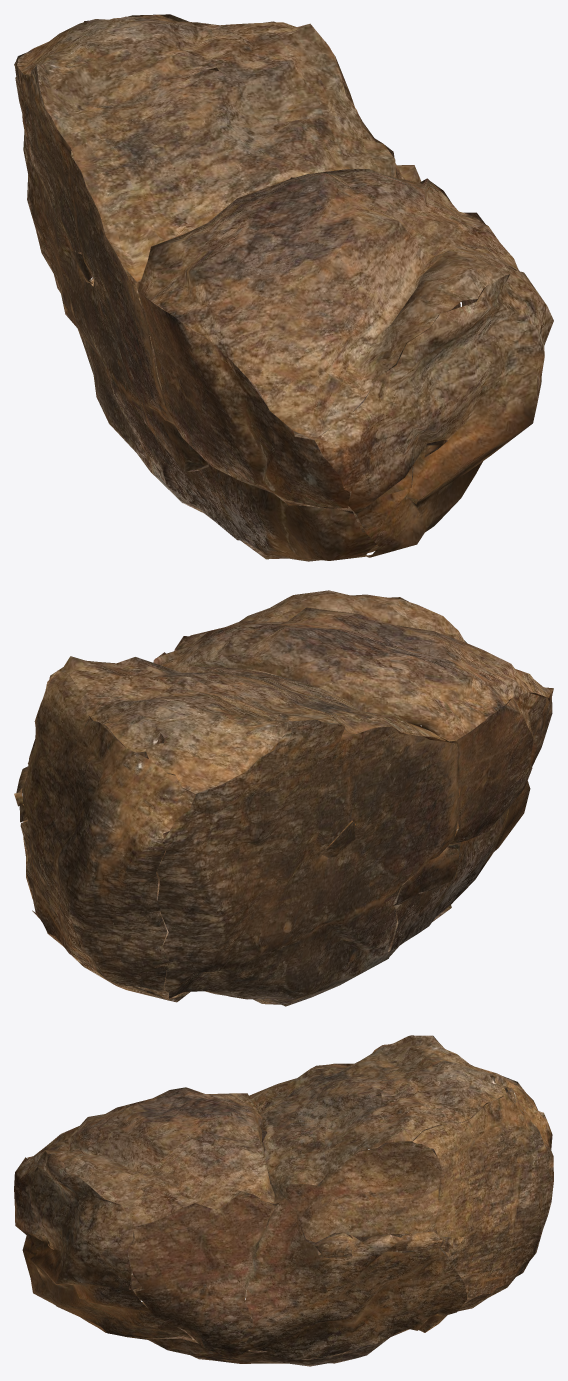
File: namaqualand_boulder_06.glb
3 renders of one model, top to bottom at view 1: azimuth 30°, elevation 25°; view 2: azimuth 150°, elevation 25°; view 3: azimuth 270°, elevation 25°, orthographic. The views are drawn at different scales.
Visible parts, largest first — view 1: lod0; view 2: lod0; view 3: lod0.
Boxes of the visible parts, <box> form: lod0: <box>14,14,553,561</box>; lod0: <box>14,590,553,1006</box>; lod0: <box>14,1035,553,1366</box>.
Size of what is drawn, in the model's own units: 0.6703 by 0.6467 by 1.2.
1 material, 1 textured.
